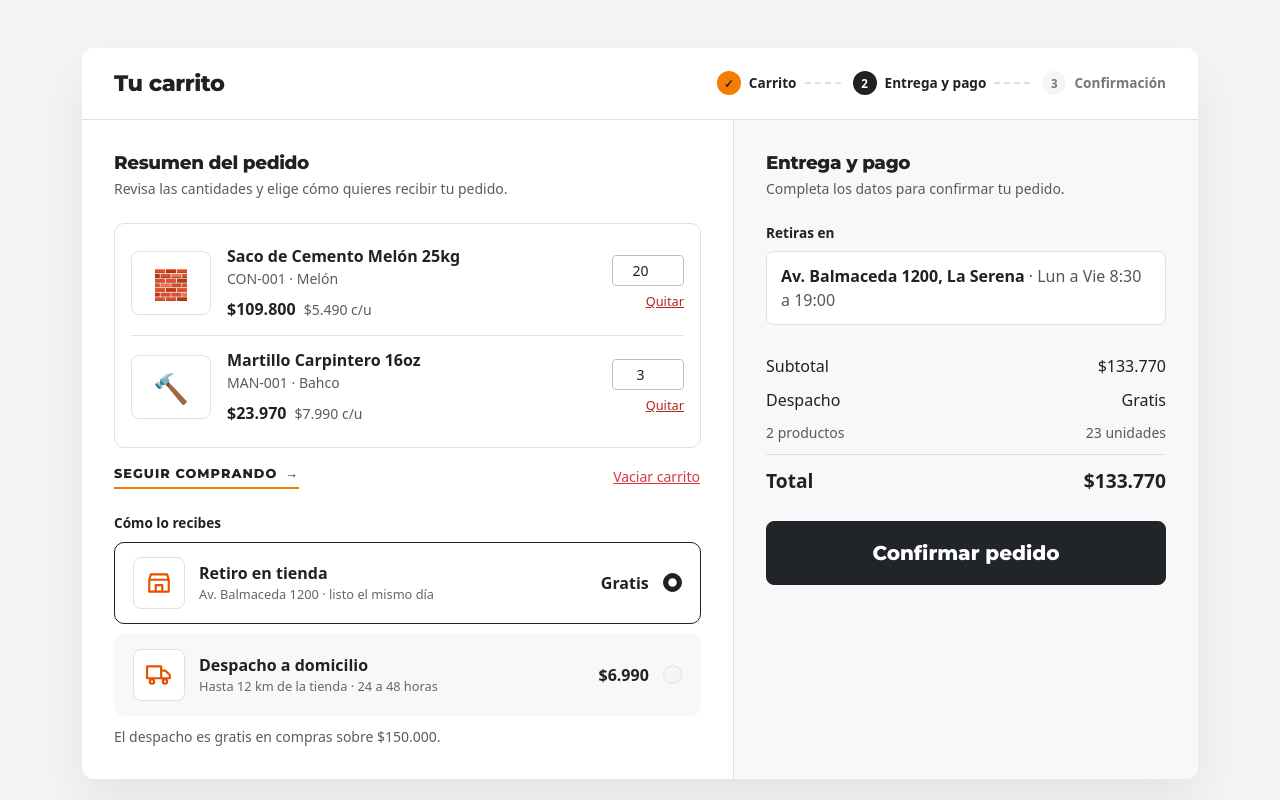
it: Carrito › si la cantidad queda vacia vuelve a 1 al salir del campo
The width and height of the screenshot is (1280, 800).
Clear the number field named "Cantidad de Martillo Carpintero 16oz": point(648, 375) [612,359,684,390]
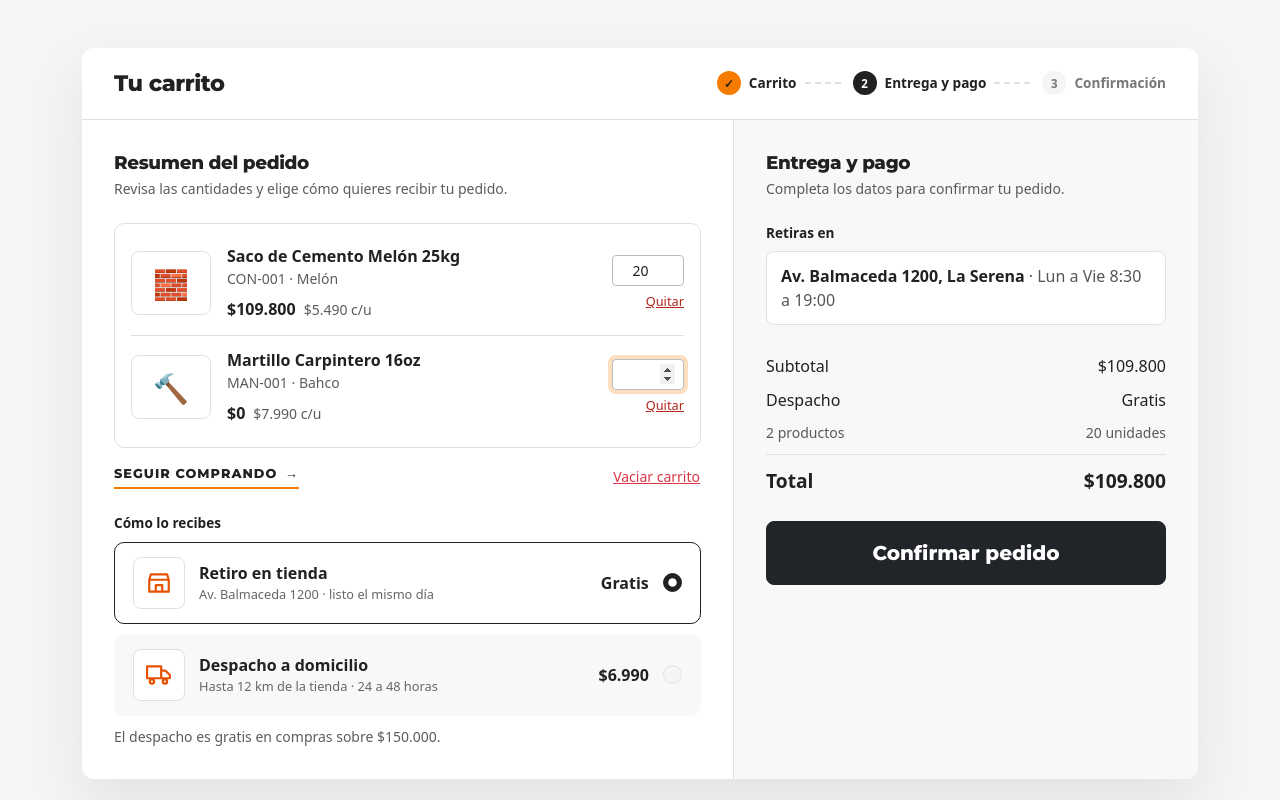
Press Tab
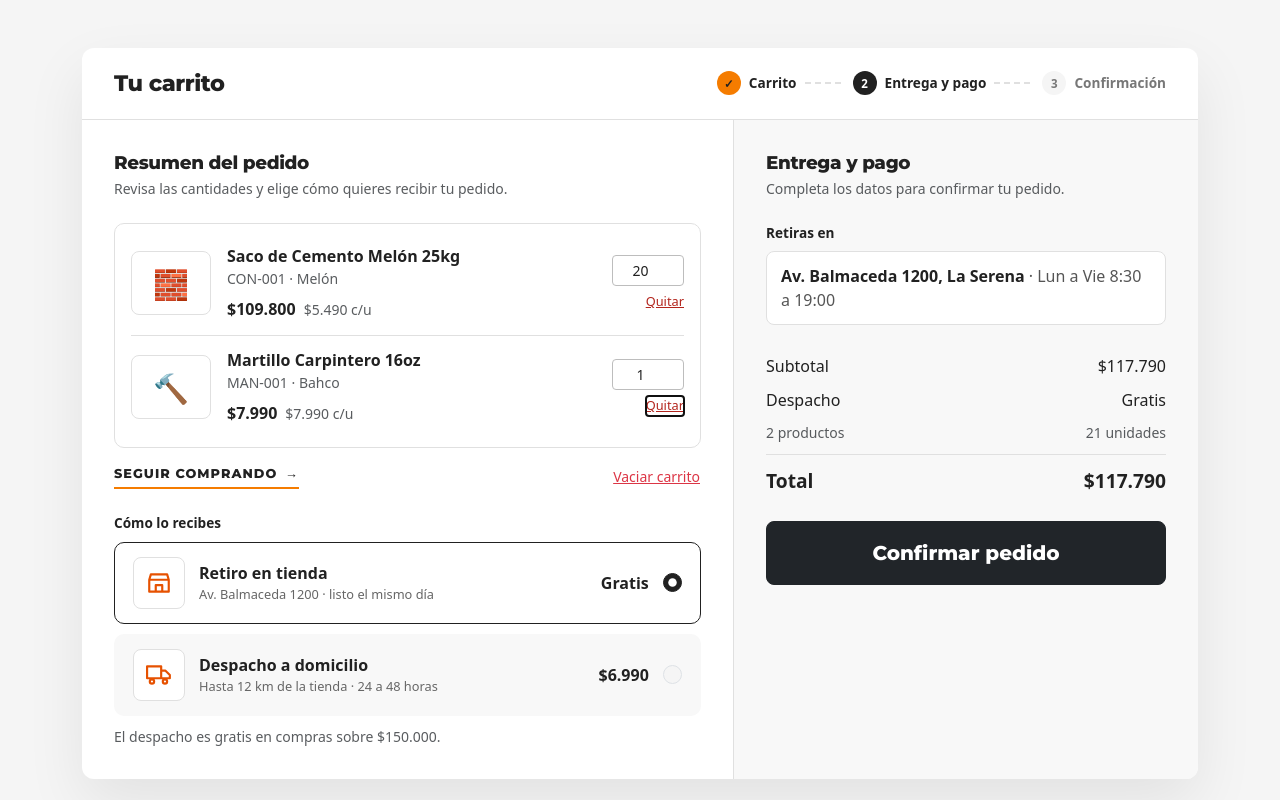
Expected: the number field named "Cantidad de Martillo Carpintero 16oz" holds "1", [612,359,684,390]
